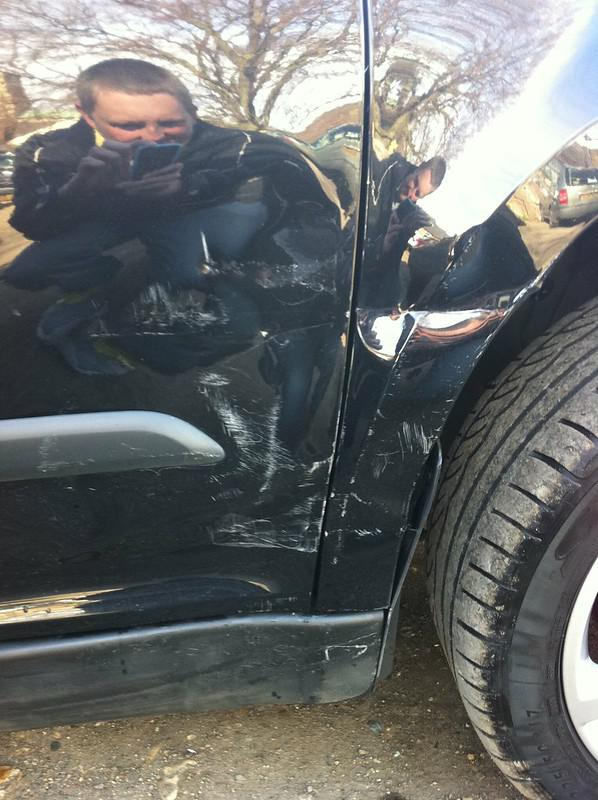doorouter-dent: (37, 92, 346, 684)
quaterpanel-dent: (359, 18, 594, 510)
